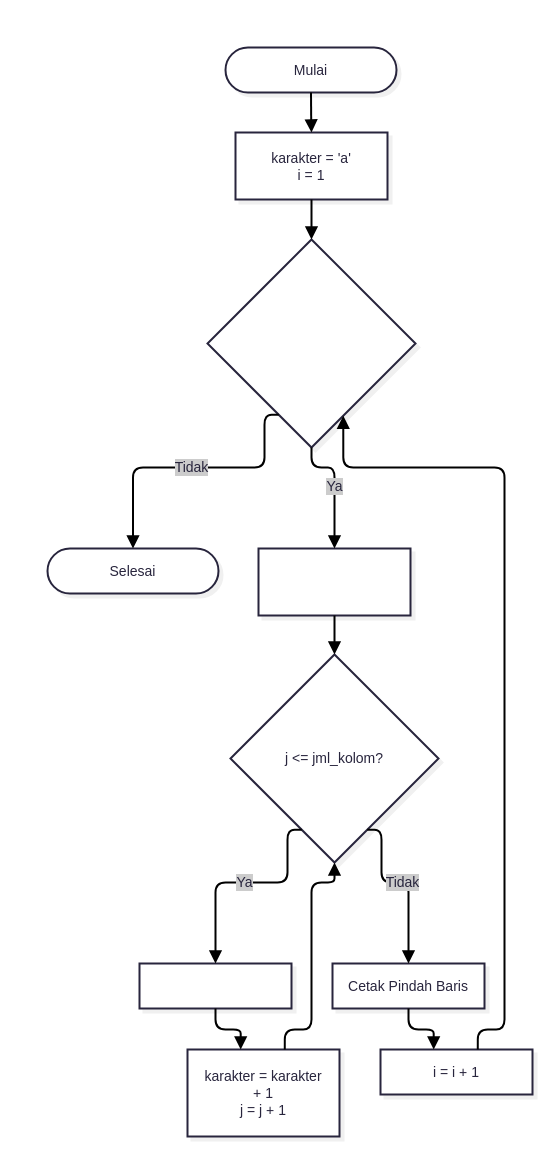
The diagram is 554 pixels wide and 1158 high, and some of its shapes have lost their labels. The shapes that lost their labels are listed below. From the top down, each one's centre as x and y in pixels, then its label:
At [313,345]: "i <= 5?".
At [336,583]: "jml_kolom = 2 * i - 1 j = 1".
At [217,987]: "Cetak karakter".
